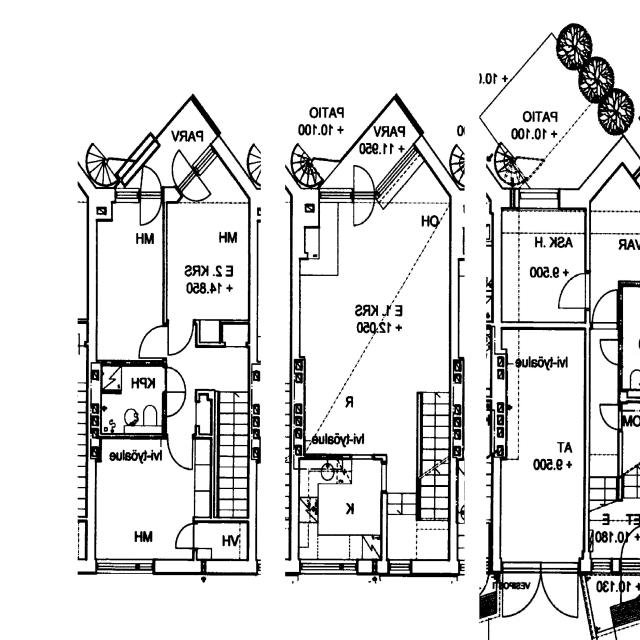door: (540, 562, 578, 622), (503, 562, 540, 622), (177, 169, 214, 216), (163, 148, 199, 196), (558, 273, 591, 308), (621, 521, 640, 573), (621, 558, 640, 610), (168, 433, 193, 472), (592, 290, 616, 330), (138, 328, 168, 358), (170, 319, 193, 358), (140, 187, 160, 229), (140, 161, 160, 203), (354, 192, 373, 228), (354, 167, 373, 203), (598, 404, 623, 430), (598, 340, 623, 364), (162, 368, 187, 392), (174, 523, 197, 548)
